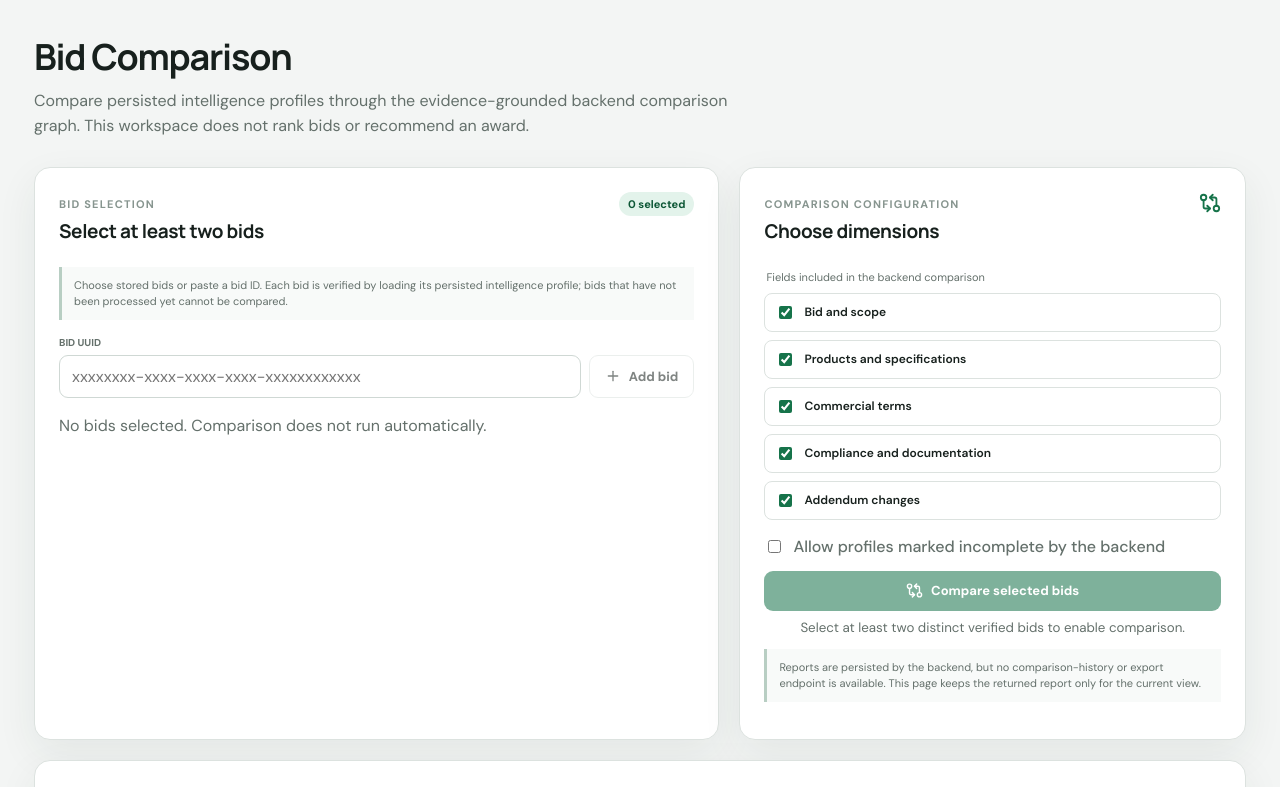
Bid Comparison page › renders every backend category, missing values, and profile navigation
This screenshot has width=1280, height=787.
Step 1. Type "11111111-1111-4111-8111-111111111111" into the field labelled "Bid UUID" → (320, 376), box x1=59 y1=355 x2=581 y2=398
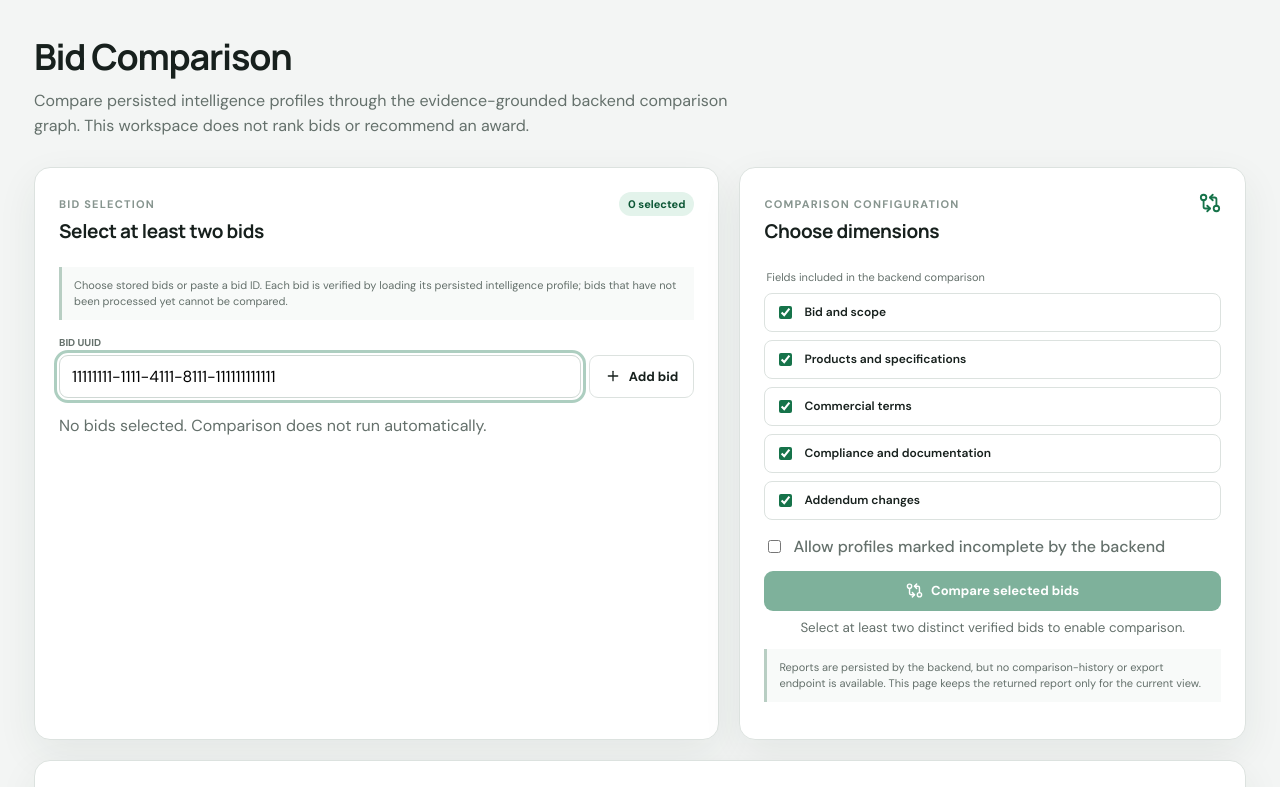
Step 2. Click the button "Add bid" → (642, 376), box x1=589 y1=355 x2=694 y2=398
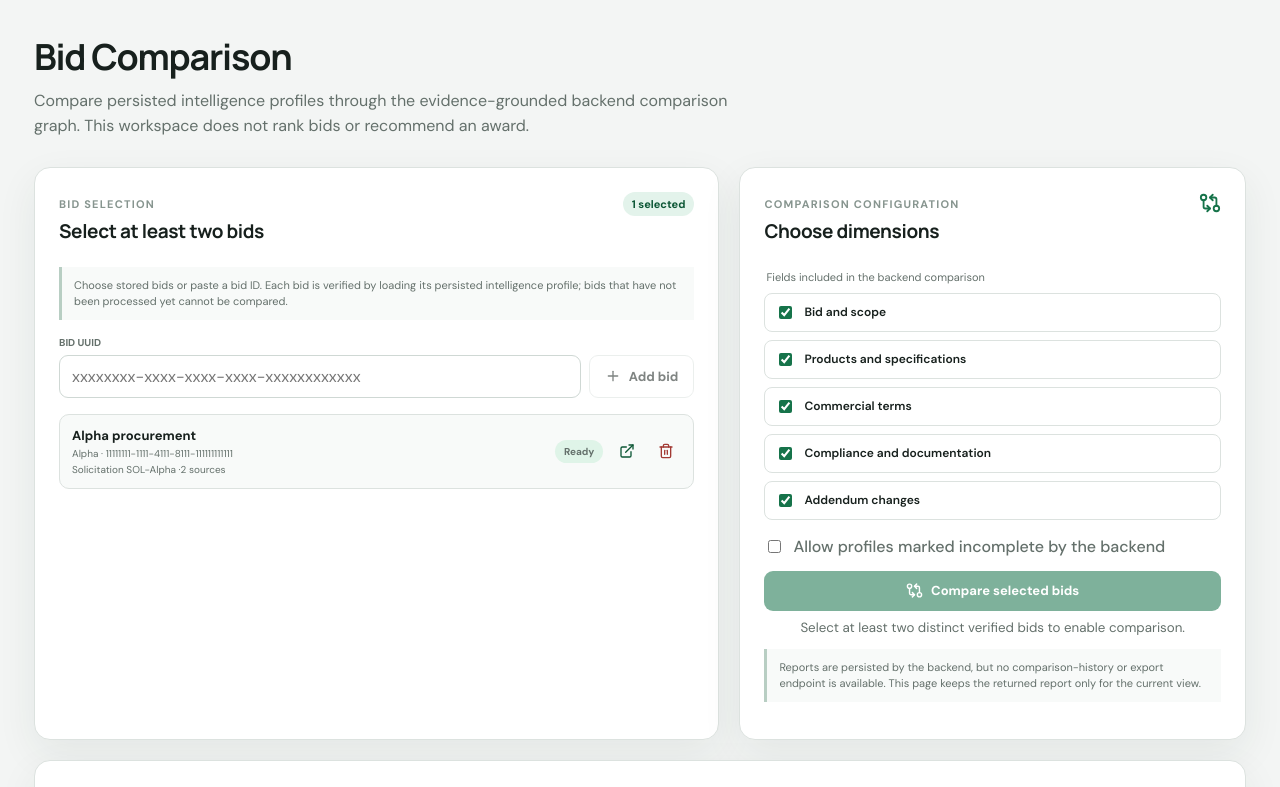
Now the text "Alpha procurement" is shown, box x1=72 y1=427 x2=196 y2=444
Step 3. Type "22222222-2222-4222-8222-222222222222" into the field labelled "Bid UUID" → (320, 376), box x1=59 y1=355 x2=581 y2=398
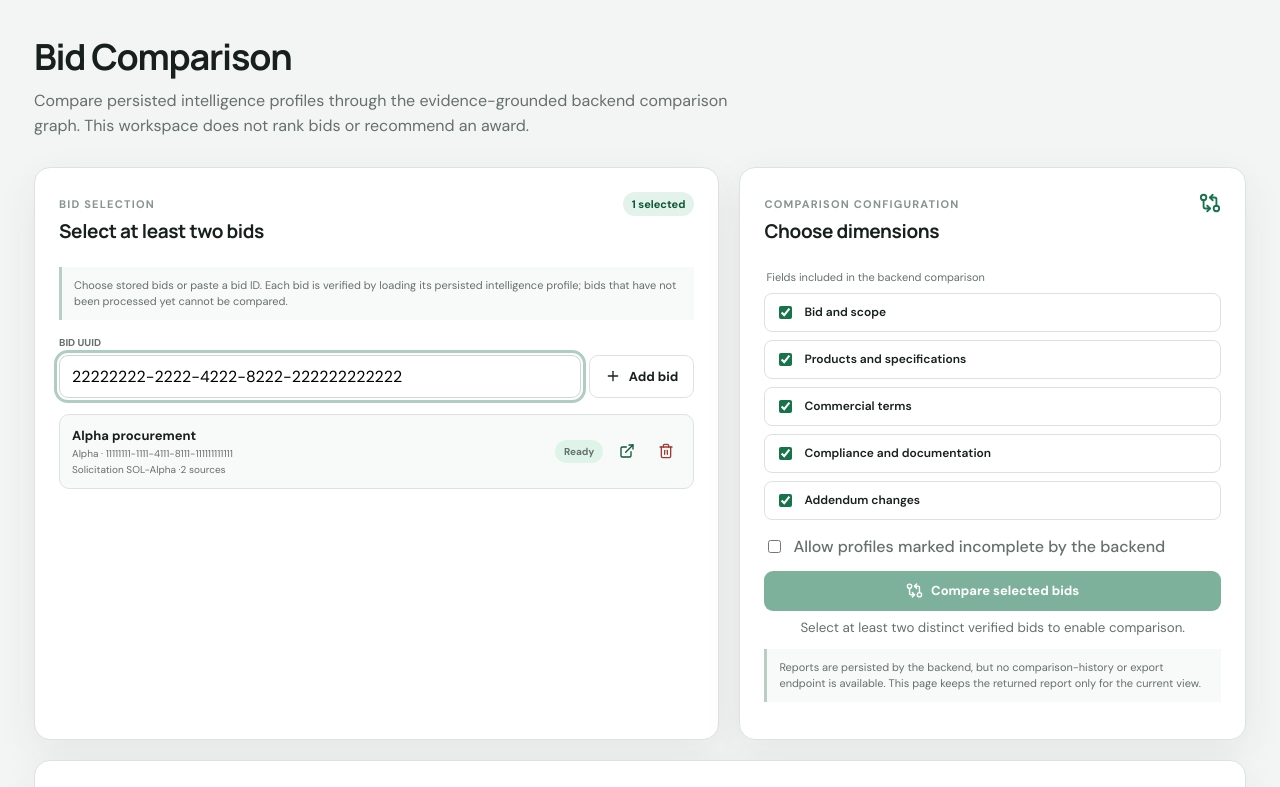
Step 4. Click the button "Add bid" → (642, 376), box x1=589 y1=355 x2=694 y2=398
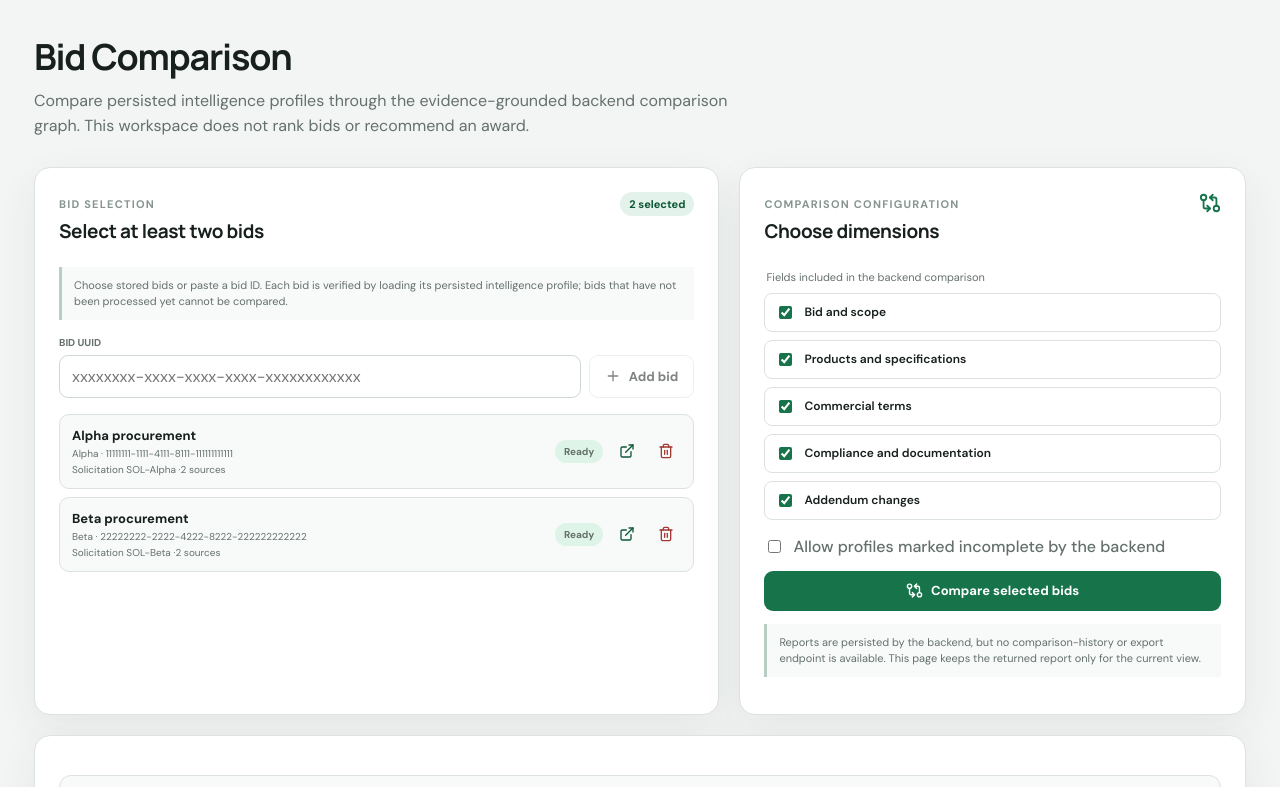
Now the text "Beta procurement" is shown, box x1=72 y1=510 x2=189 y2=527
Step 5. Click the button "Compare selected bids" → (993, 591), box x1=764 y1=571 x2=1221 y2=611
(page scrolled)
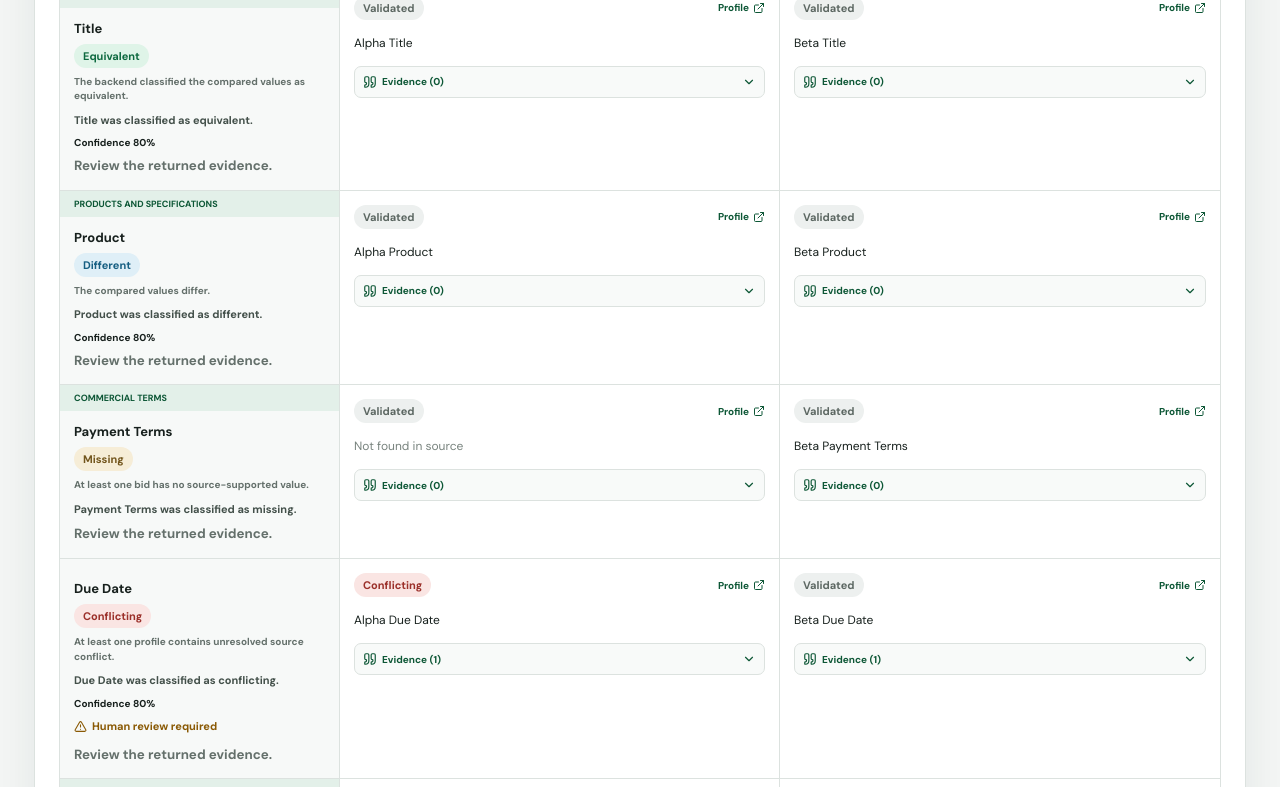
Now the text "Not found in source" is shown, box x1=354 y1=438 x2=463 y2=454
